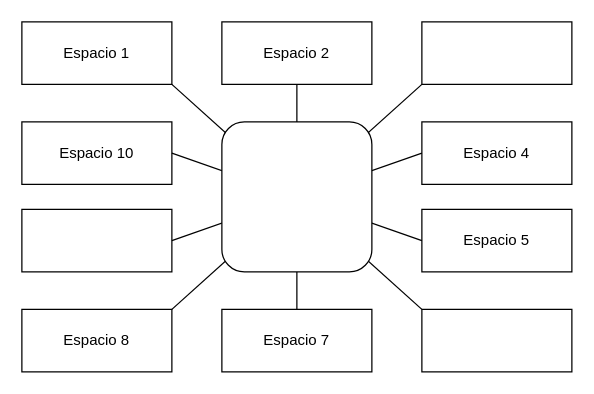
The diagram is 594 pixels wide and 394 high, and some of its shapes have lost their labels. Here are the shapes that lost their labels. From the top down, the centre of each, then its label:
At pixel 496 52: "Espacio 3".
At pixel 296 196: "Servidor principal API REST: Fastapi".
At pixel 96 240: "Espacio 9".
At pixel 496 340: "Espacio 6".
